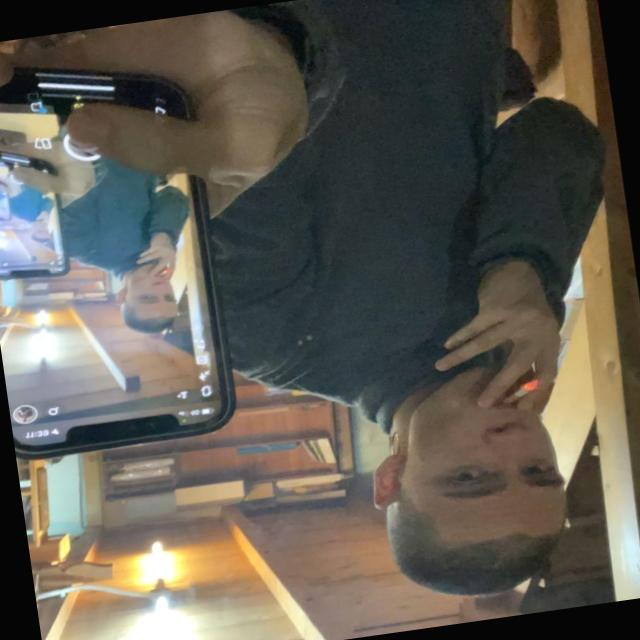cigarette: (483, 364, 556, 415), (146, 264, 173, 284)
